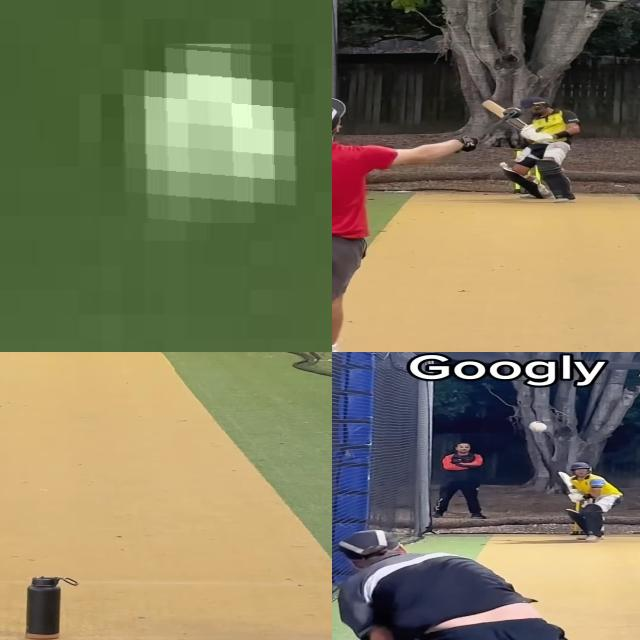Cricket ball: (118, 39, 302, 223), (529, 421, 547, 432), (498, 160, 510, 168)
